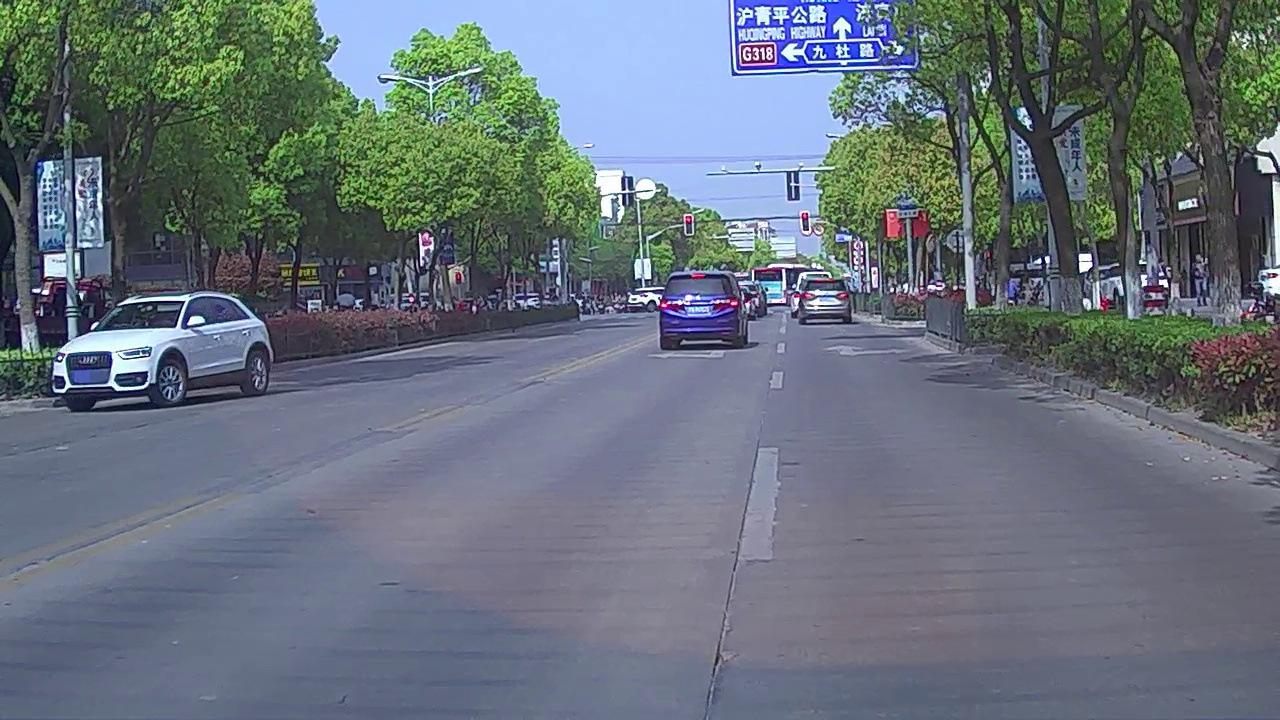traffic_light: (684, 214, 693, 234), (801, 210, 809, 230)
